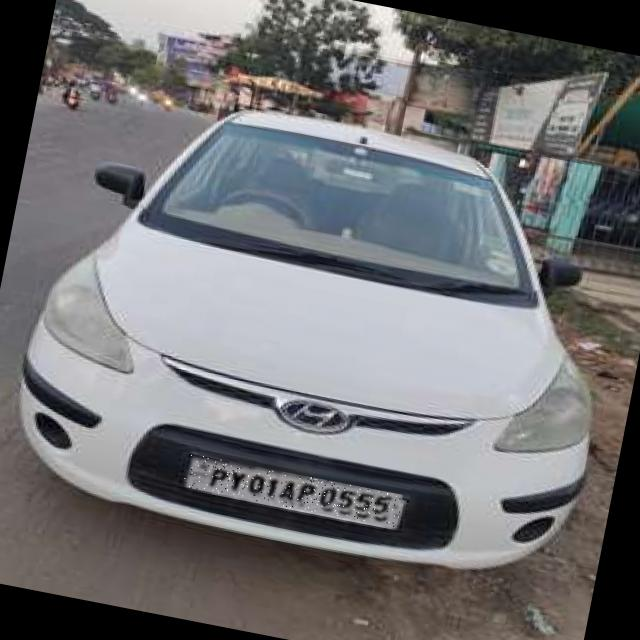Plate: (184, 455, 404, 530)
